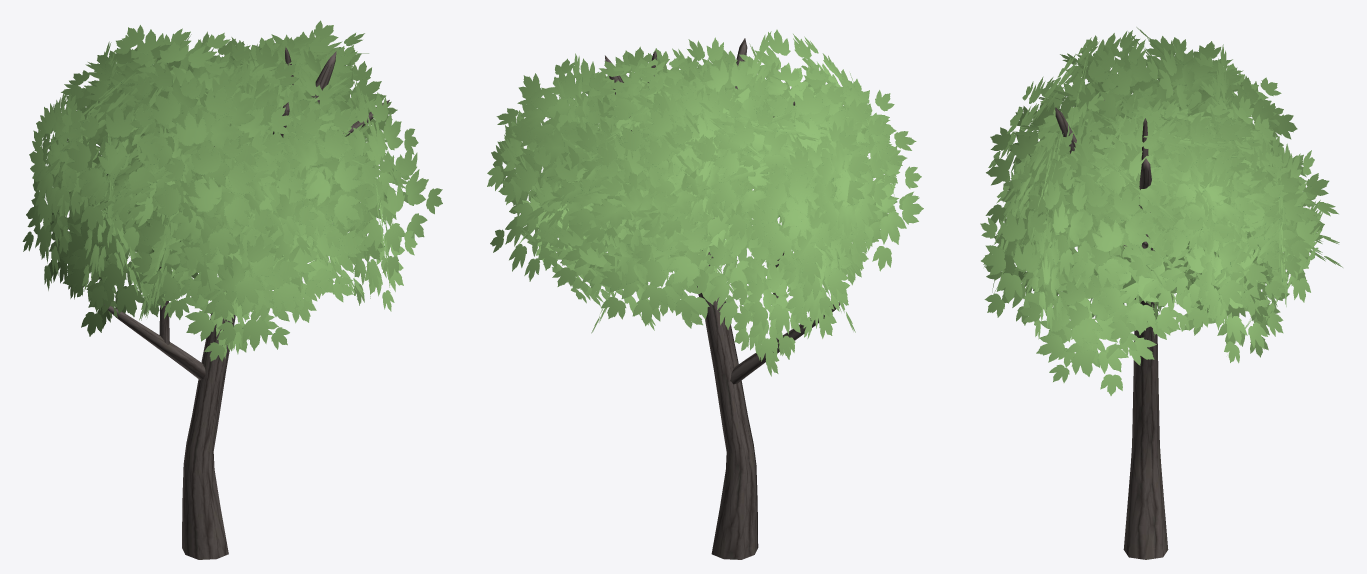
Rendered from MapleTree_4.glb.
3 views of the same model, side by side, from view 1: azimuth 30°, elevation 25°; view 2: azimuth 150°, elevation 25°; view 3: azimuth 270°, elevation 25° (orthographic). The views are drawn at different scales.
Parts seen in each view (by area): view 1: MapleTree_4; view 2: MapleTree_4; view 3: MapleTree_4.
Part boxes in pixels (x1,y1,x2,y2): MapleTree_4: (22,20,442,559); MapleTree_4: (487,29,923,559); MapleTree_4: (980,27,1342,559).
Size of the model in its own units: 2.77 by 3.59 by 2.44.
Materials: 2 (2 with a texture image).
